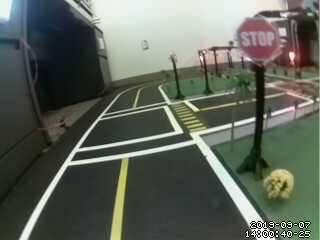Stop_Sign: (235, 13, 285, 67)
